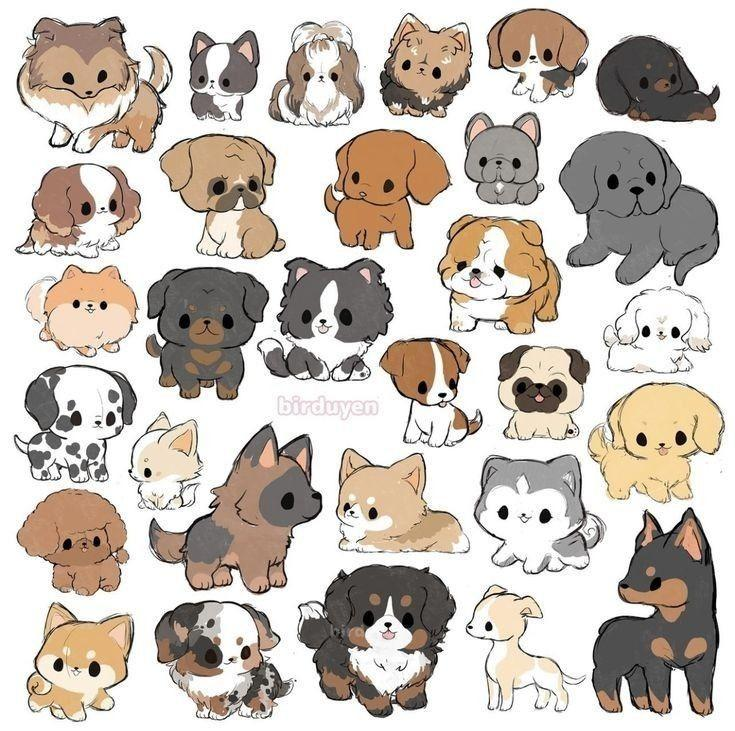adult_dog: (590, 505, 721, 720), (464, 583, 590, 715)
puppy-dog: (146, 420, 325, 597), (557, 129, 722, 288), (294, 563, 458, 720), (16, 16, 174, 156), (255, 254, 395, 385), (152, 599, 298, 722), (144, 266, 271, 403), (586, 380, 727, 503), (472, 452, 608, 577), (322, 128, 455, 253), (158, 134, 287, 262), (436, 213, 563, 337), (12, 363, 139, 487), (333, 445, 472, 557), (25, 600, 136, 724), (15, 487, 132, 598), (14, 162, 143, 260), (378, 336, 485, 450), (594, 33, 722, 125), (24, 263, 141, 360), (268, 20, 366, 130), (602, 283, 715, 375), (486, 7, 591, 106), (378, 12, 474, 119), (496, 343, 592, 443), (462, 110, 546, 209), (126, 410, 205, 513), (187, 29, 262, 124)
